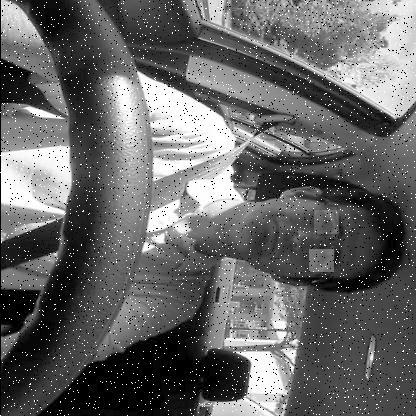seatbelt: (0, 104, 404, 296)
